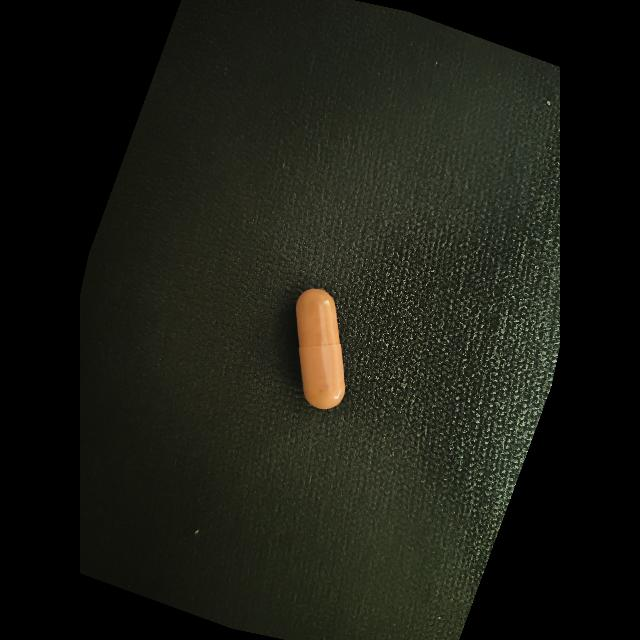Intact Capsule: (296, 288, 345, 409)
